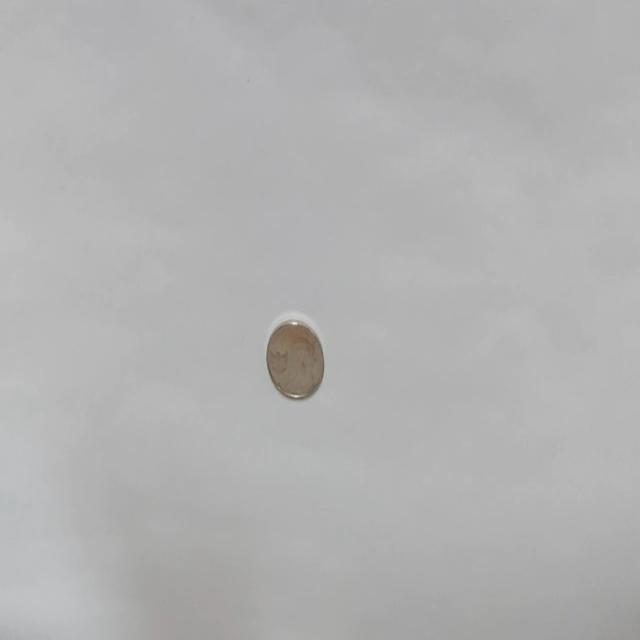seribu rupiah koin: (264, 314, 324, 401)
